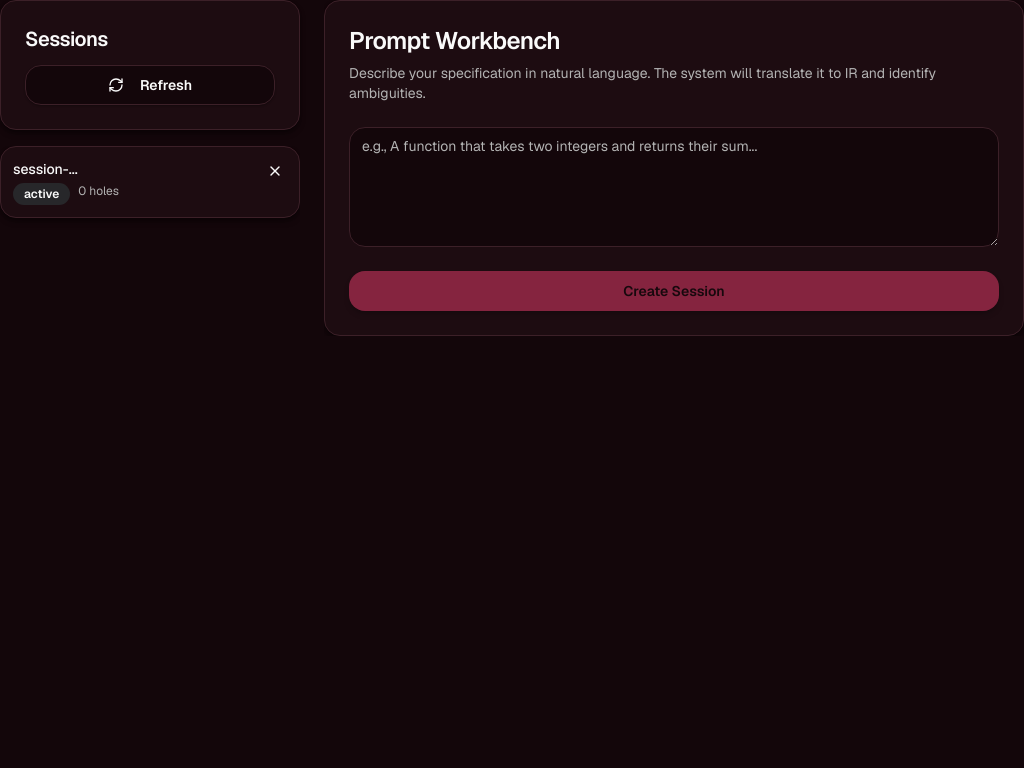
PromptWorkbenchView › shows finalize button when no ambiguities remain
The width and height of the screenshot is (1024, 768).
Expected: the text "session-..." is shown, x1=13 y1=160 x2=78 y2=178
What coordinates should you click on to do the following:
click the text "session-... active 0 holes"
I would click on:
 (150, 182)
Its box is x1=0 y1=146 x2=300 y2=218.
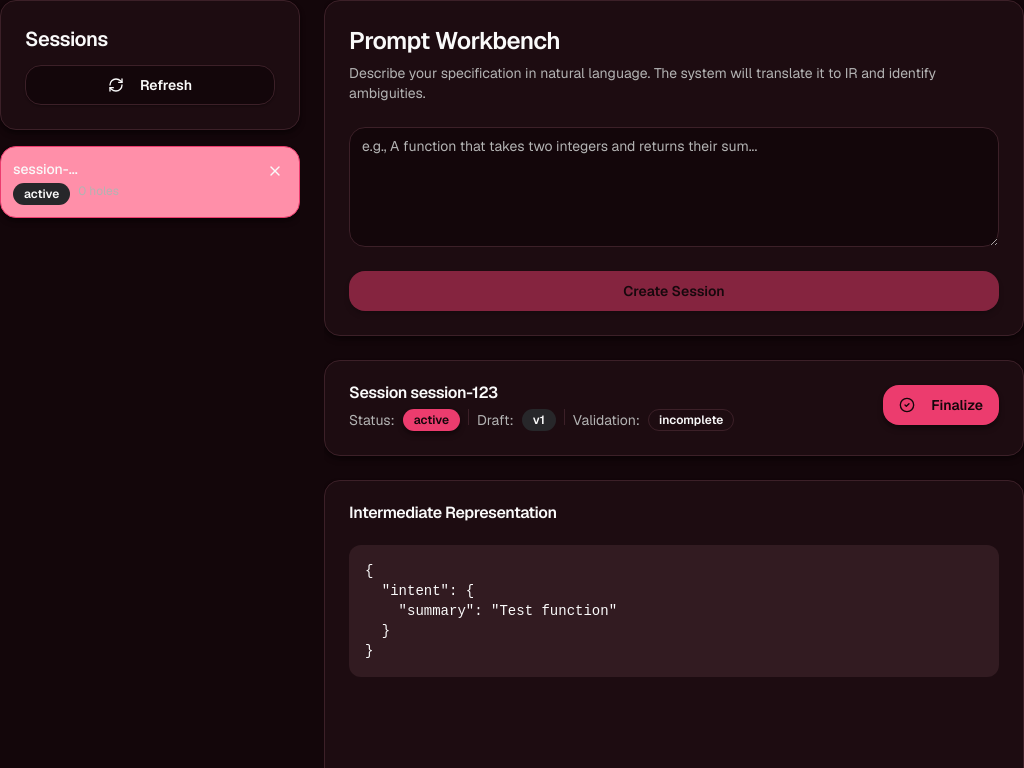
Now the button "Finalize" is shown, box x1=883 y1=385 x2=999 y2=425
